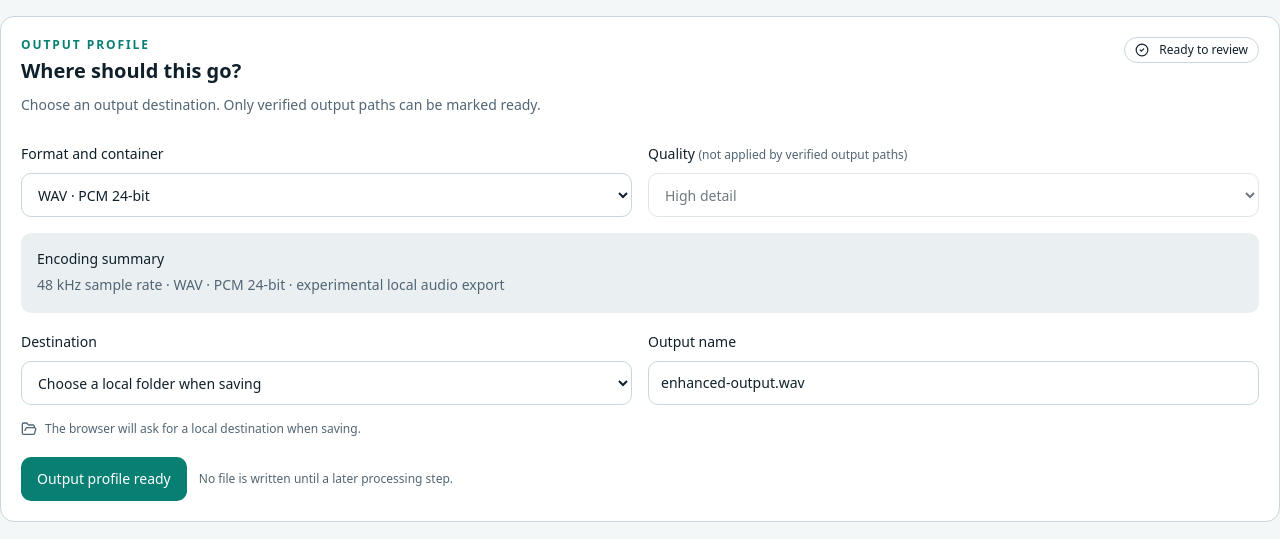
output profile panel › enables audio formats with explicit codecs, names, and fixed encoding quality
Check: the dropdown named "Output quality" is disabled, box [648, 173, 1259, 217]
Check: the button "Output profile ready" is enabled, box [21, 457, 187, 501]
Select "FLAC · lossless" in the dropdown named "Output format" at {"x": 326, "y": 195}, box [21, 173, 632, 217]
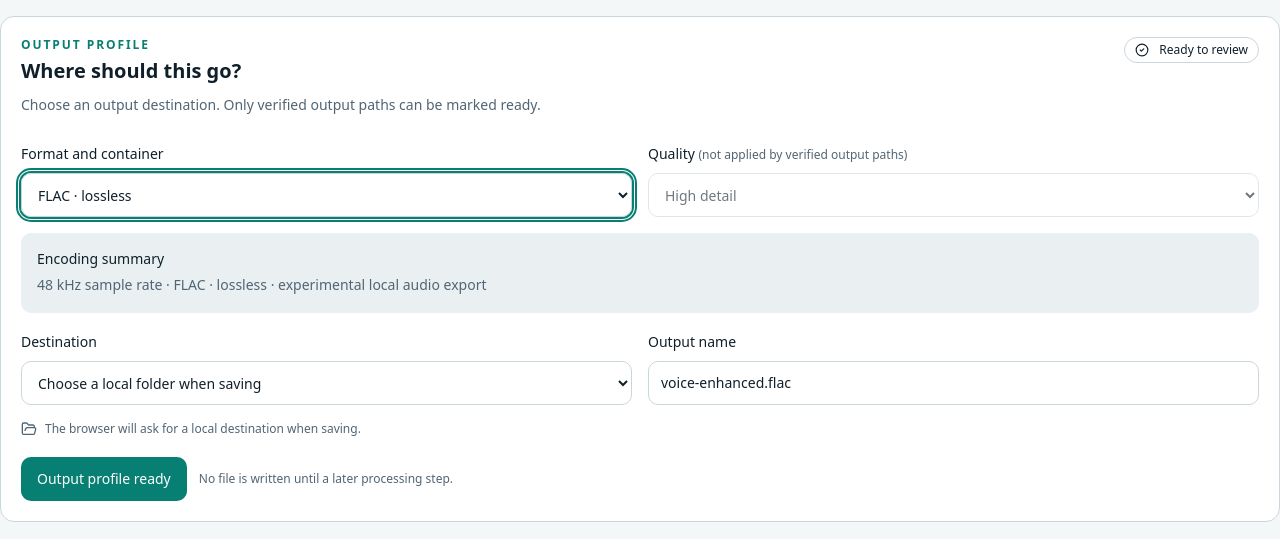
Check: the button "Output profile ready" is enabled, box [21, 457, 187, 501]
Select "MP3 · 192 kbps" in the dropdown named "Output format" at {"x": 326, "y": 195}, box [21, 173, 632, 217]
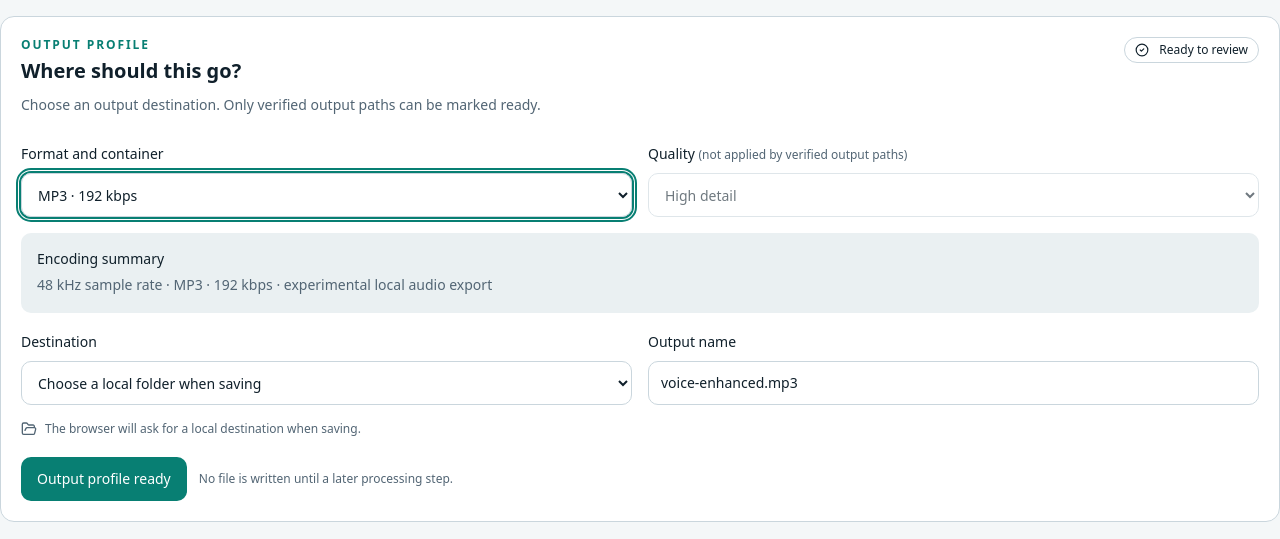
Check: the button "Output profile ready" is enabled, box [21, 457, 187, 501]
Select "M4A · AAC 192 kbps" in the dropdown named "Output format" at {"x": 326, "y": 195}, box [21, 173, 632, 217]
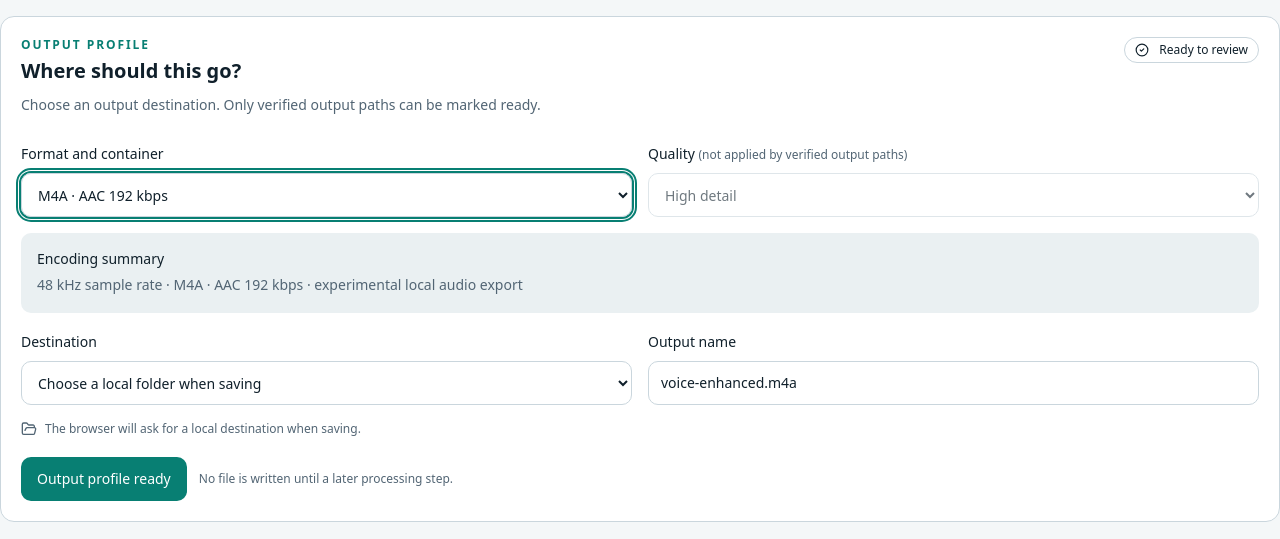
Check: the button "Output profile ready" is enabled, box [21, 457, 187, 501]
Select "WAV · PCM 24-bit" in the dropdown named "Output format" at {"x": 326, "y": 195}, box [21, 173, 632, 217]
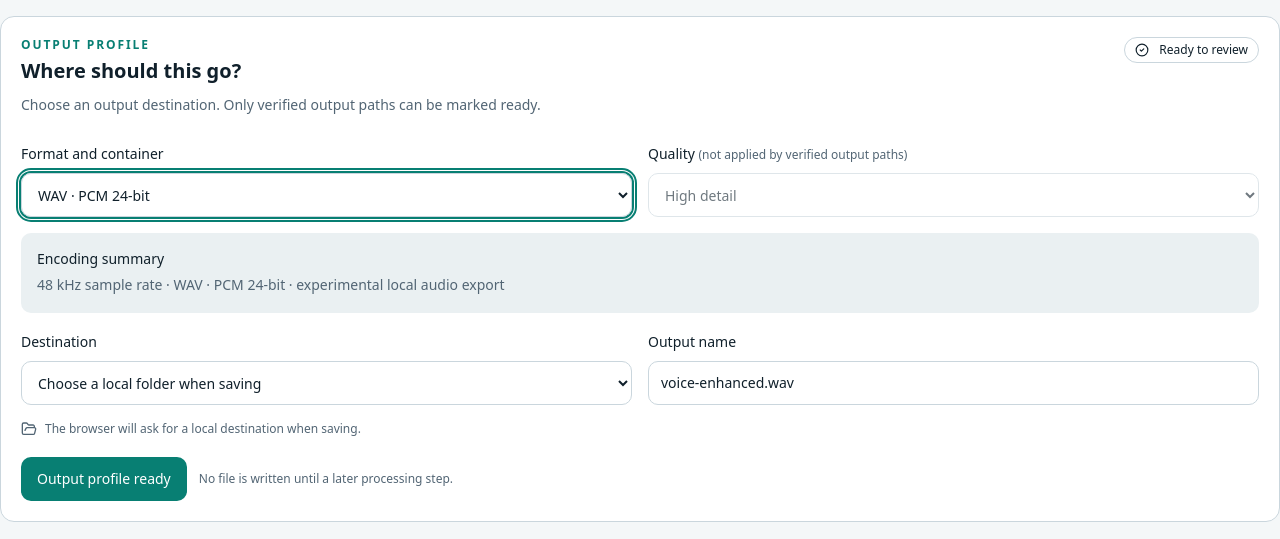
Check: the button "Output profile ready" is enabled, box [21, 457, 187, 501]
Check: the field labelled "Output name" holds "voice-enhanced.wav", box [648, 361, 1259, 405]
